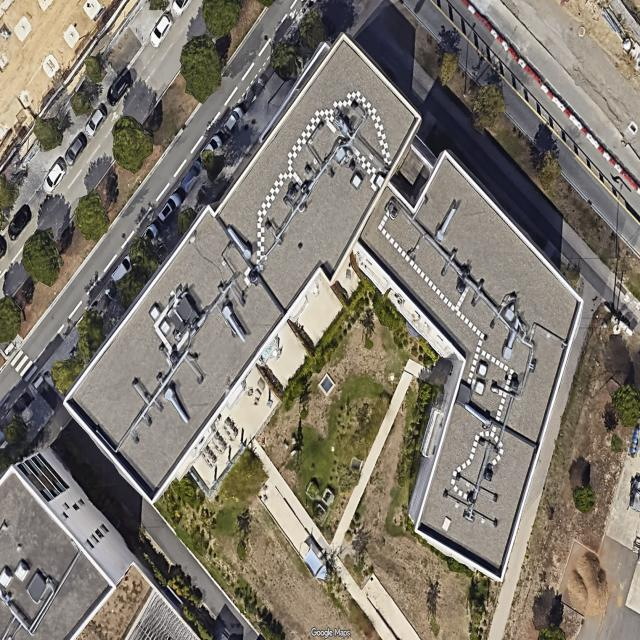immeuble: (32, 29, 460, 503), (269, 128, 617, 582), (0, 449, 133, 639)
